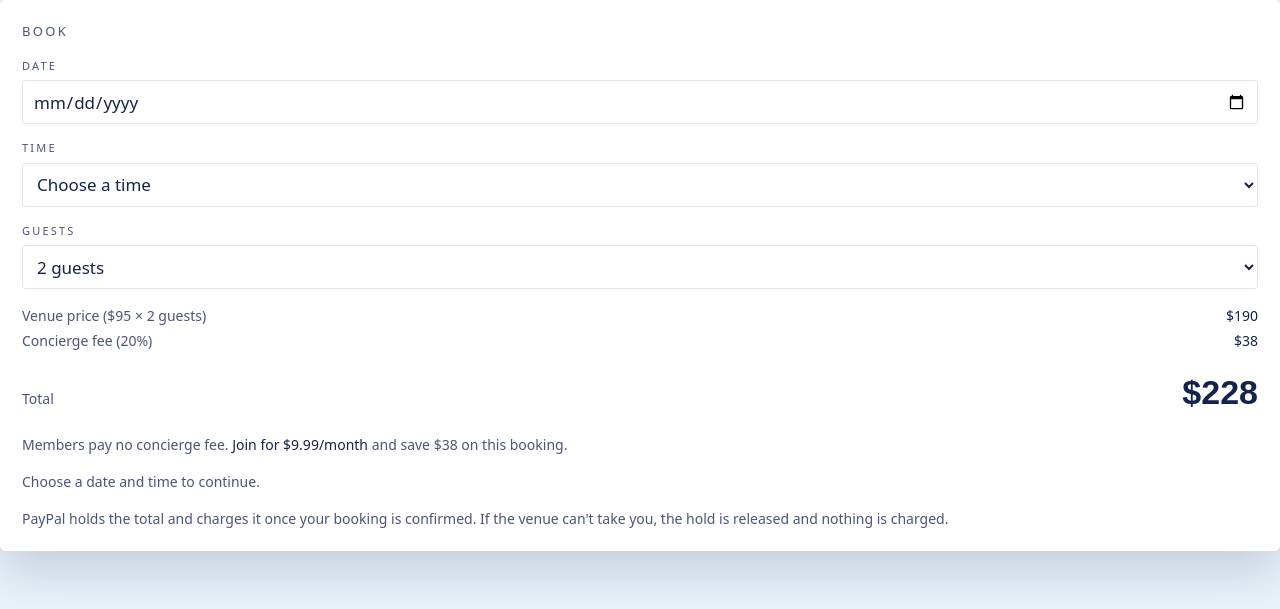
Test: CheckoutPanel › validation › without a PayPal client id, says payments aren't set up
This screenshot has width=1280, height=609.
Type "2026-11-14" into the date field labelled "Date".
click(640, 102); type("2026-11-14")  # box x1=22 y1=80 x2=1258 y2=124
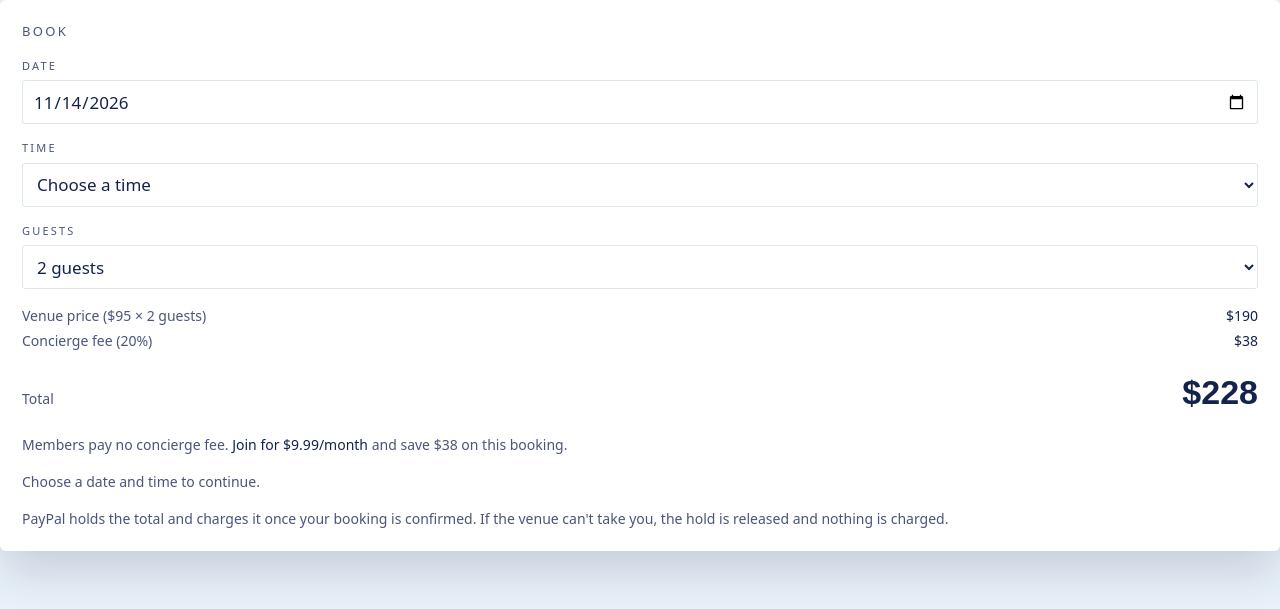
Select "7:30 pm" in the dropdown labelled "Time" at {"x": 640, "y": 184}, box x1=22 y1=162 x2=1258 y2=206
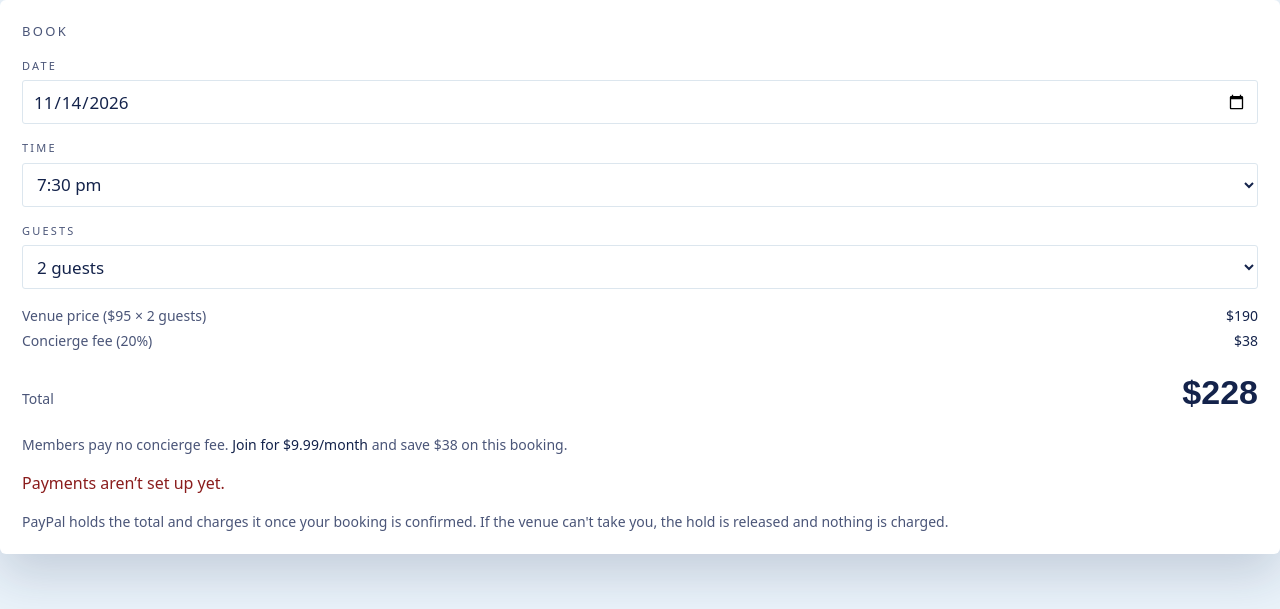
Now the text "Payments aren’t set up yet." is shown, box x1=22 y1=472 x2=225 y2=494
